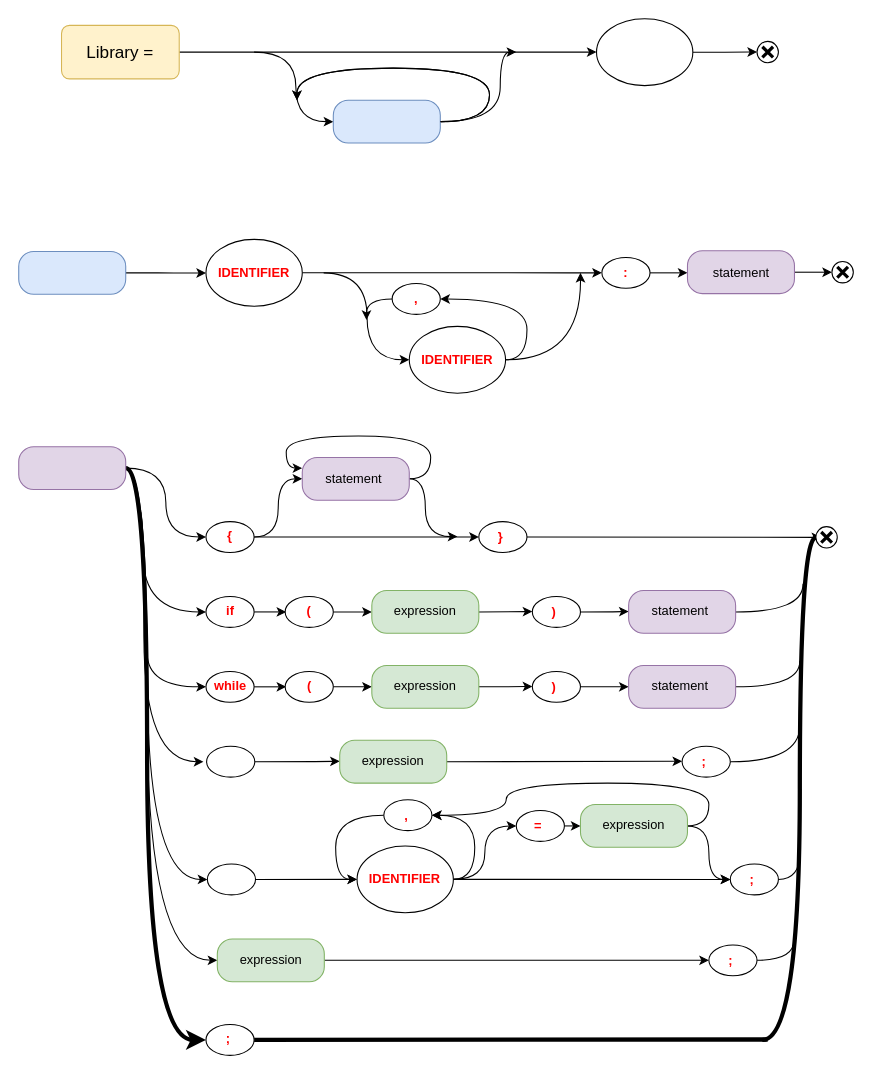
Image size: 872x1074. Some labels were removed from this diagram. Each missing label, with the centre of its shape:
END OF FILE: [644,52]
function: [386,121]
function =: [72,272]
let: [231,879]
return: [230,761]
statement =: [72,468]
